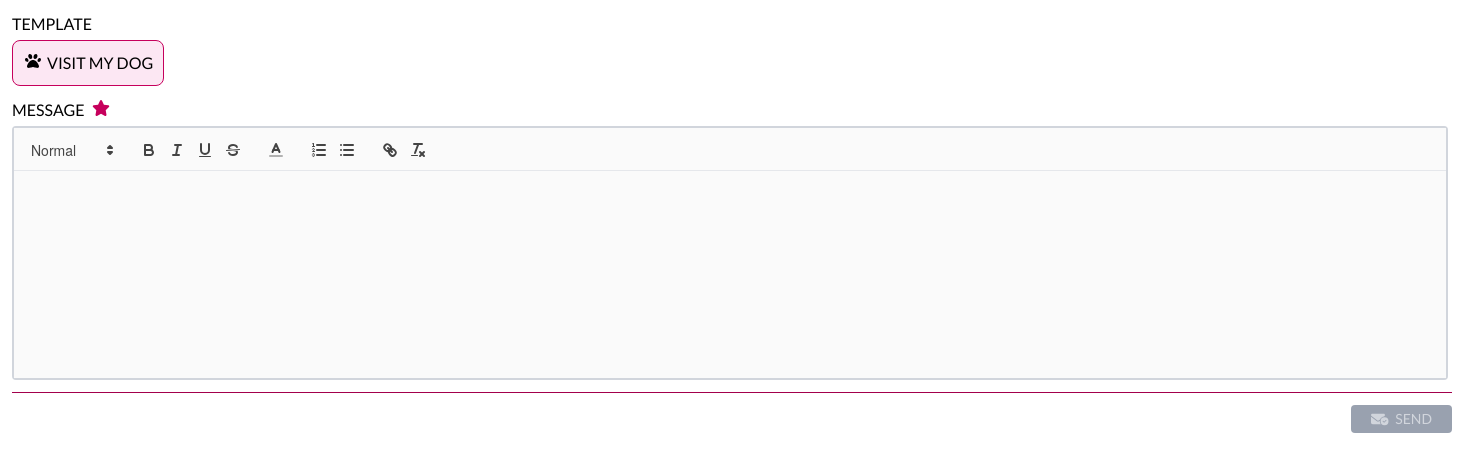
MessageForm chatbot › skips the chatbot when a template is chosen
Step 1. Click the checkbox labelled "Visit my dog" → (89, 63), box top-left (25, 51), bottom-right (153, 75)
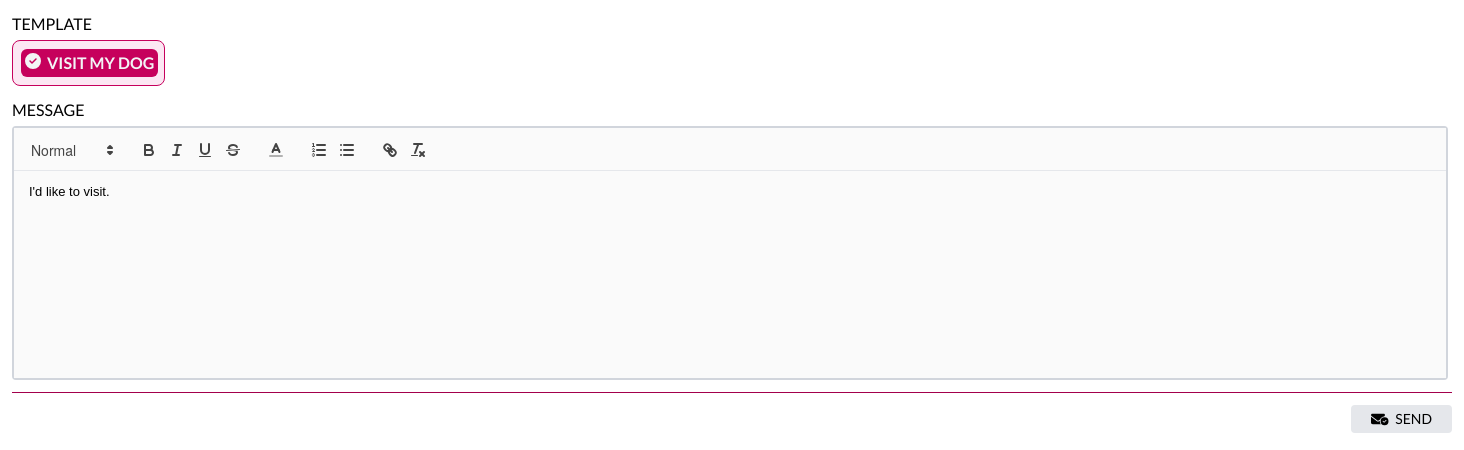
Step 2. Click the button "Send" → (1402, 419), box top-left (1351, 405), bottom-right (1452, 433)
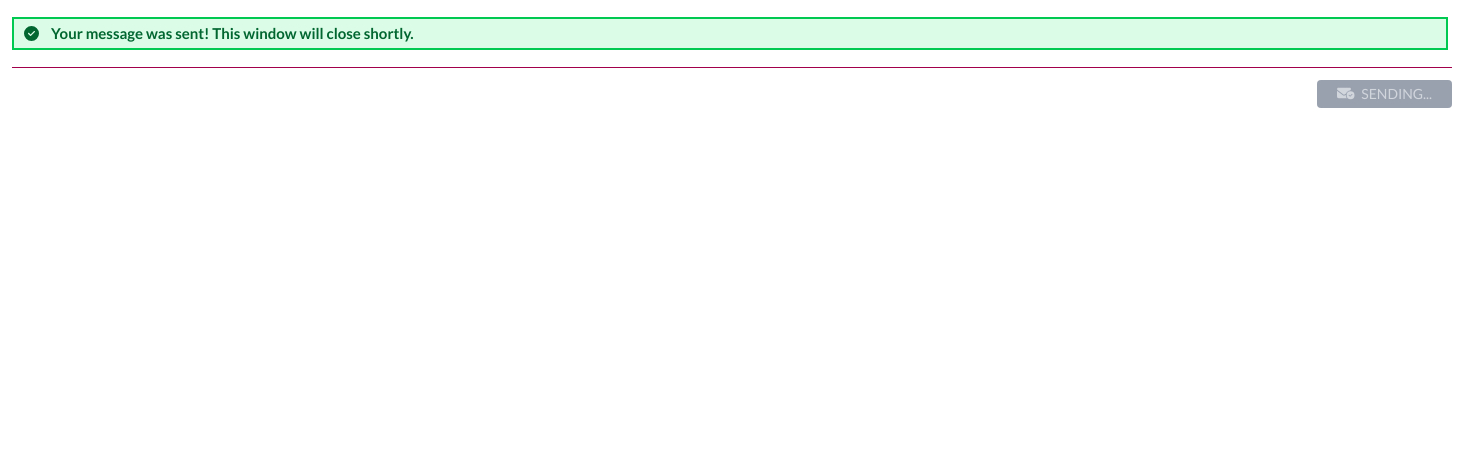
expect the text "Your message was sent! This window will close shortly." is shown: met, box top-left (51, 24), bottom-right (414, 42)
